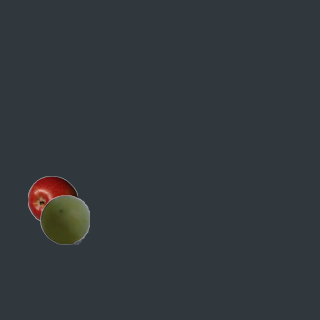Apple Braeburn: (27, 175, 77, 225)
Grape White 4: (39, 194, 89, 244)
